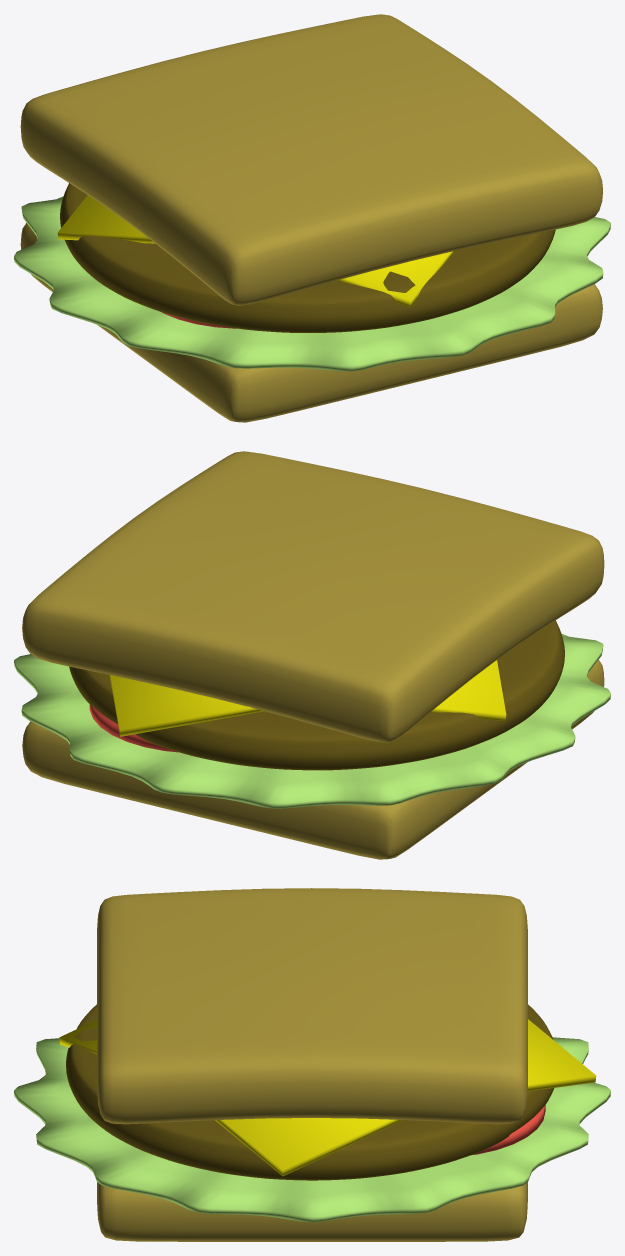
The model's file is sandwich_samuelGragg.fbx.
The picture shows the model from 3 angles, top to bottom: view 1: azimuth 30°, elevation 25°; view 2: azimuth 150°, elevation 25°; view 3: azimuth 270°, elevation 25°; orthographic projection.
Parts seen in each view (by area): view 1: Cube.001, Circle, Cylinder, Cube, Plane; view 2: Cube.001, Circle, Cylinder, Cube, Plane, Circle.003; view 3: Cube.001, Circle, Cylinder, Cube, Plane, Circle.003.
Boxes of the visible parts, left/top/right/bottom form: Cube.001: left=20, top=14, right=602, bottom=305; Circle: left=14, top=196, right=610, bottom=371; Cylinder: left=60, top=183, right=555, bottom=332; Cube: left=20, top=223, right=602, bottom=422; Plane: left=57, top=195, right=455, bottom=307; Cube.001: left=22, top=451, right=604, bottom=742; Circle: left=14, top=634, right=610, bottom=808; Cylinder: left=69, top=620, right=564, bottom=770; Cube: left=22, top=660, right=604, bottom=859; Plane: left=109, top=660, right=506, bottom=736; Circle.003: left=89, top=704, right=178, bottom=752; Cube.001: left=97, top=888, right=527, bottom=1124; Circle: left=14, top=1037, right=610, bottom=1222; Cylinder: left=66, top=1004, right=554, bottom=1180; Cube: left=97, top=1182, right=527, bottom=1241; Plane: left=59, top=1019, right=596, bottom=1176; Circle.003: left=471, top=1105, right=545, bottom=1155.
Size of the model in its own units: 238 by 85.14 by 238.
